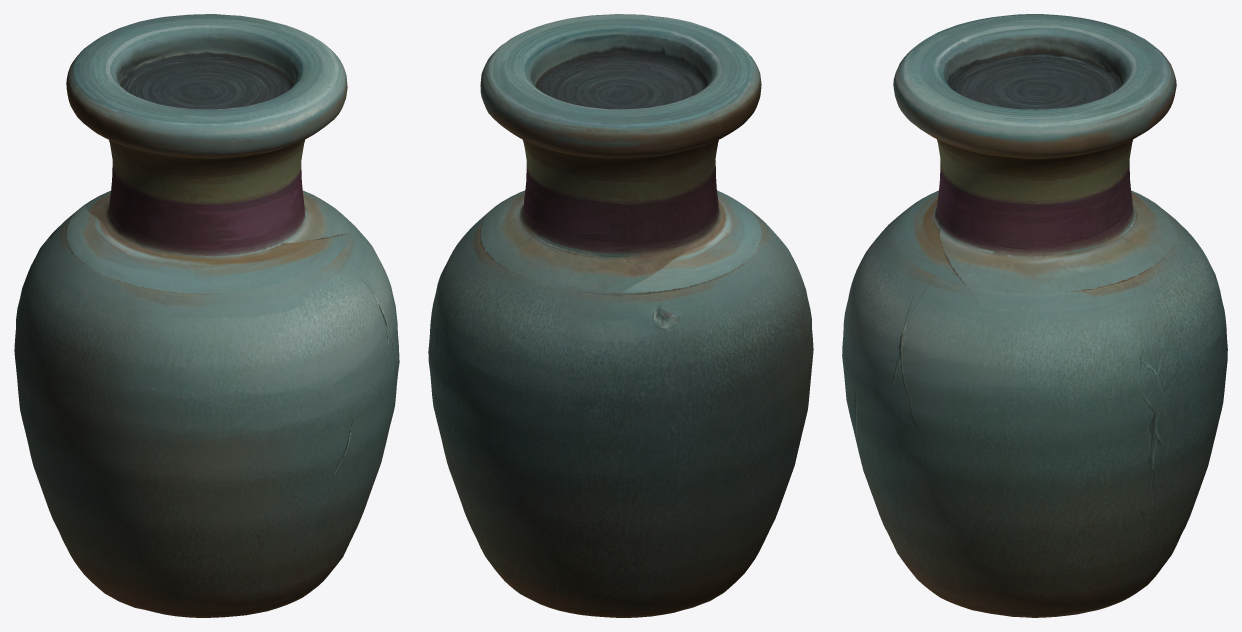
The model's file is Prop_Vase.fbx.
The picture shows the model from 3 angles, left to right: view 1: azimuth 30°, elevation 25°; view 2: azimuth 150°, elevation 25°; view 3: azimuth 270°, elevation 25°; orthographic projection.
Visible parts, largest first — view 1: texture_mapping; view 2: texture_mapping; view 3: texture_mapping.
Boxes of the visible parts, x1,y1,x2,y2 form: texture_mapping: (14, 14, 399, 617); texture_mapping: (428, 14, 813, 617); texture_mapping: (842, 14, 1227, 617).
Size of the model in its own units: 0.6817 by 0.6819 by 1.
1 material, 1 textured.
